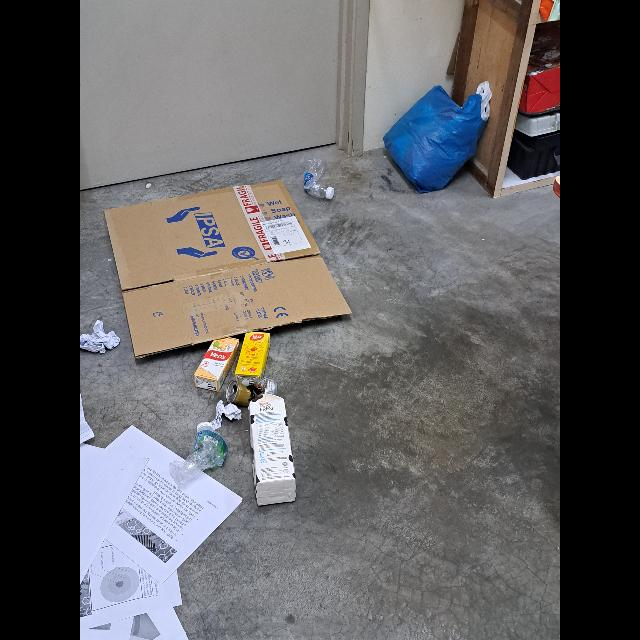aba de lata: (227, 385, 236, 399)
caixinha: (250, 394, 296, 504), (197, 336, 240, 390), (234, 332, 270, 378)
garrafa plástica: (170, 420, 228, 486), (304, 157, 336, 199)
lata: (226, 378, 278, 407)
papel: (80, 423, 240, 639), (80, 320, 120, 354), (212, 400, 242, 430), (80, 390, 94, 444)
papelão: (107, 180, 350, 356)
sacola plástica: (387, 90, 483, 190)
tampa plástica: (198, 421, 215, 433), (326, 186, 334, 200)
